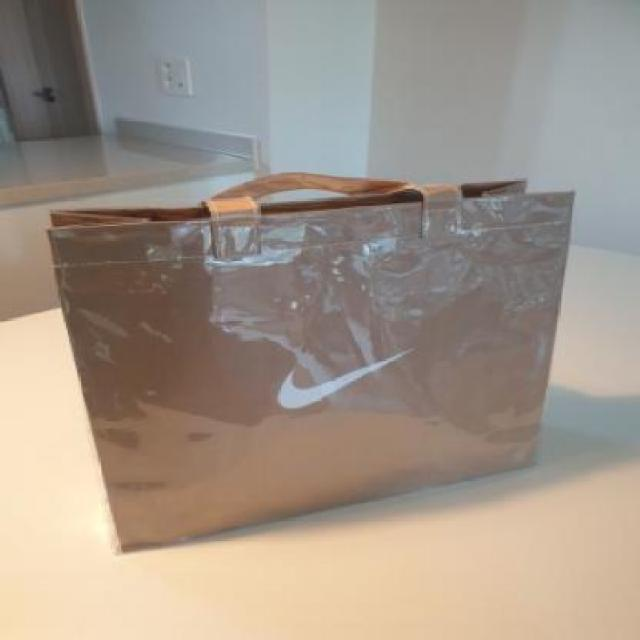Nike: (275, 345, 408, 407)
